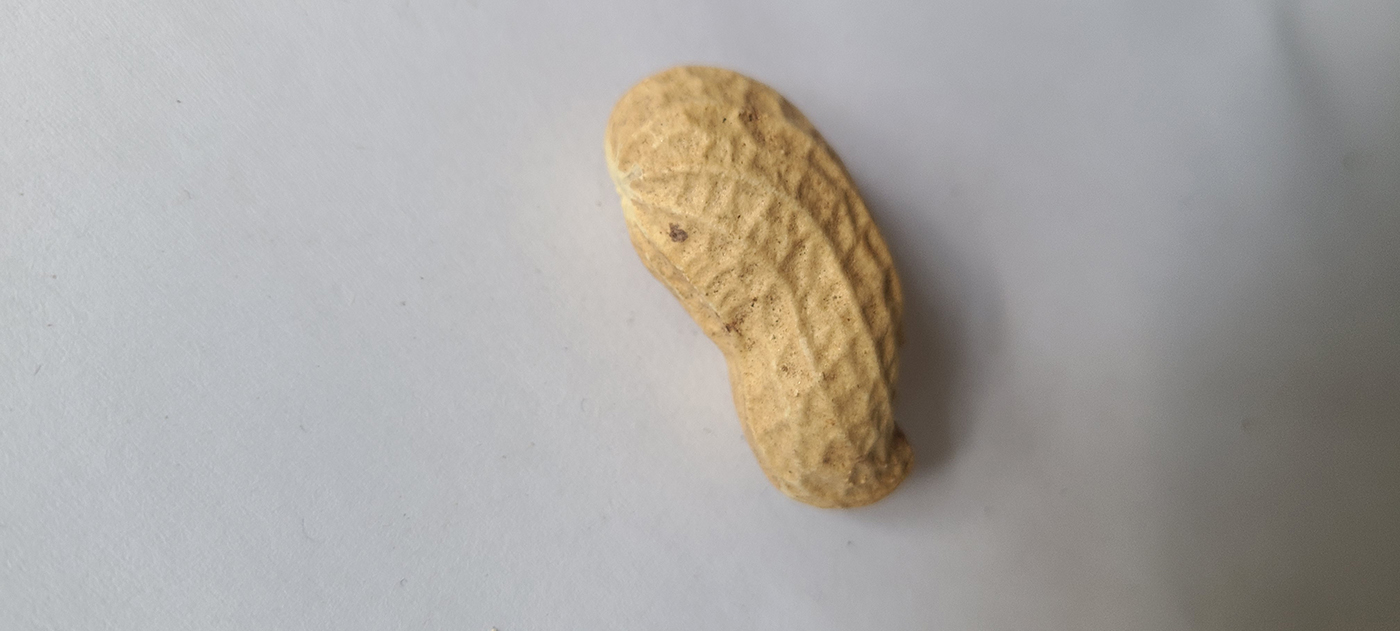h: (602, 62, 917, 509)
